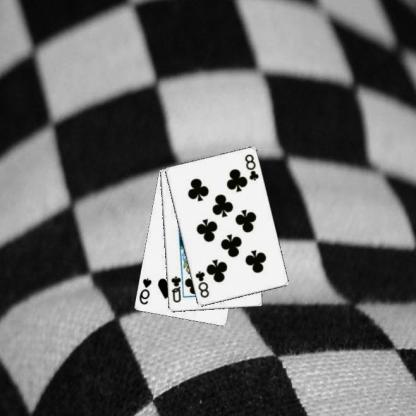6S: (138, 275, 154, 306)
8C: (194, 269, 212, 299), (244, 152, 262, 182)
QC: (170, 274, 183, 304)
